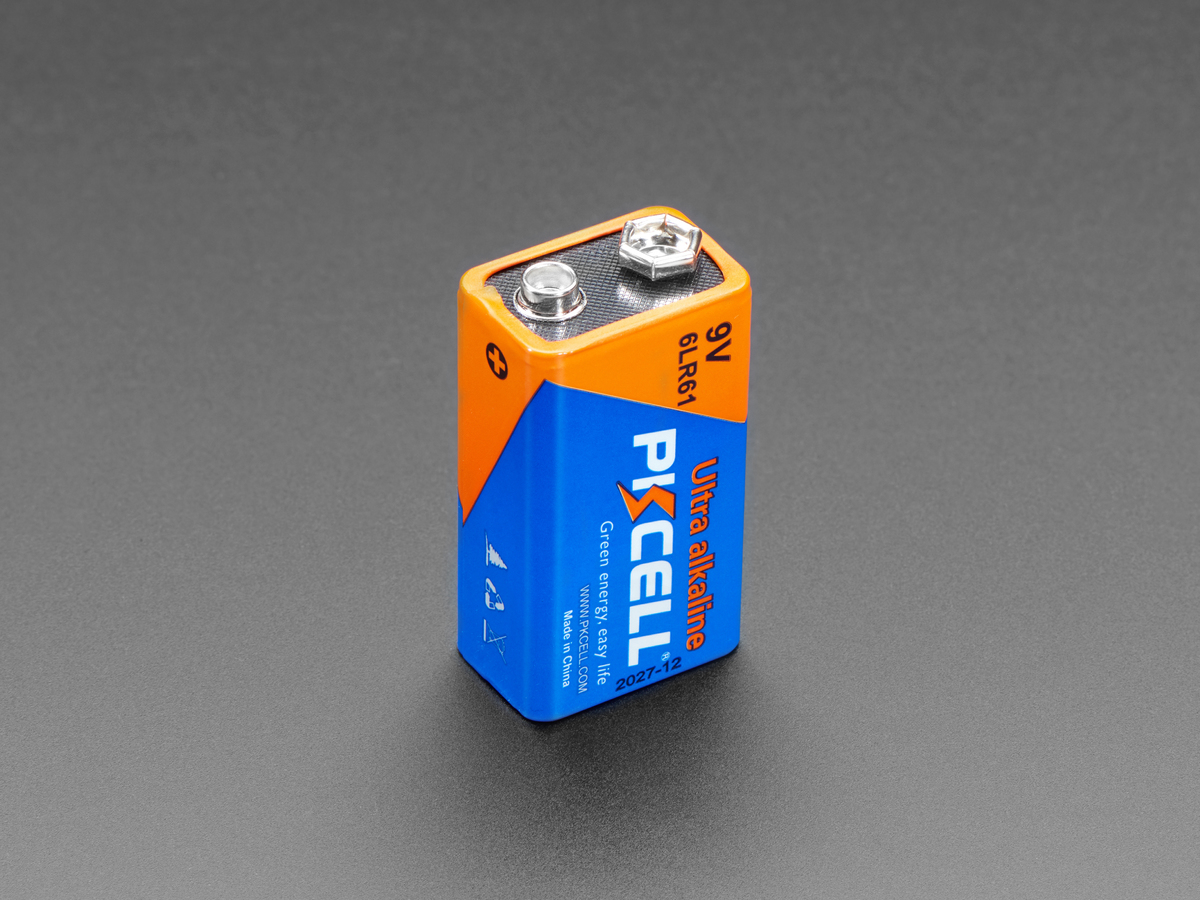9V: (434, 189, 768, 745)
